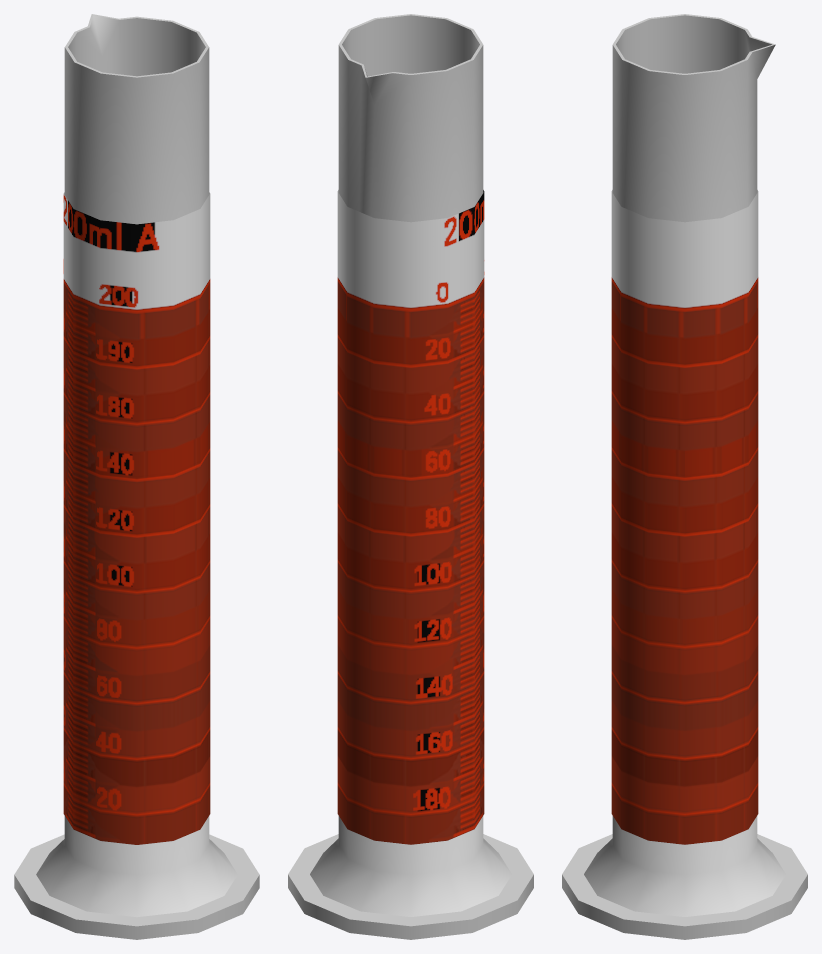
The model's file is SM_玻璃量筒.fbx.
The picture shows the model from 3 angles, left to right: view 1: azimuth 30°, elevation 25°; view 2: azimuth 150°, elevation 25°; view 3: azimuth 270°, elevation 25°; orthographic projection.
Parts seen in each view (by area): view 1: SM_玻璃量筒; view 2: SM_玻璃量筒; view 3: SM_玻璃量筒.
Boxes of the visible parts, <box> form: SM_玻璃量筒: <box>14,14,259,939</box>; SM_玻璃量筒: <box>288,14,533,939</box>; SM_玻璃量筒: <box>562,14,807,939</box>.
Bounding box in the file's own units: 0.1081 × 0.4088 × 0.1081.
